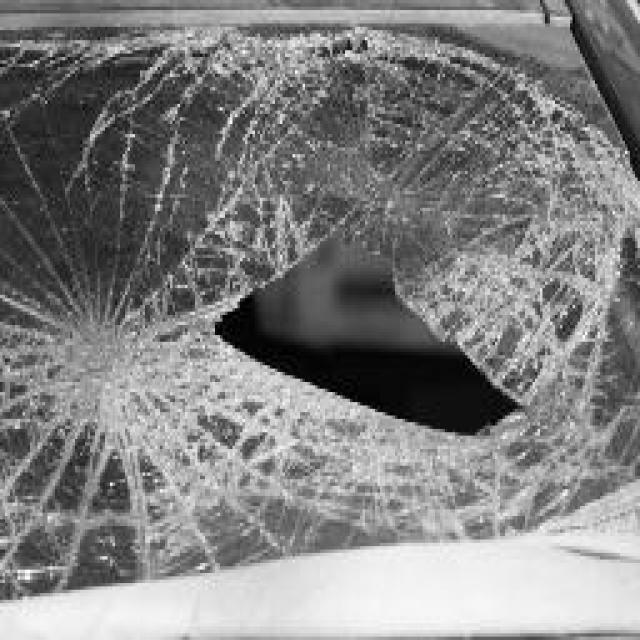Windshield: (2, 0, 640, 563)
